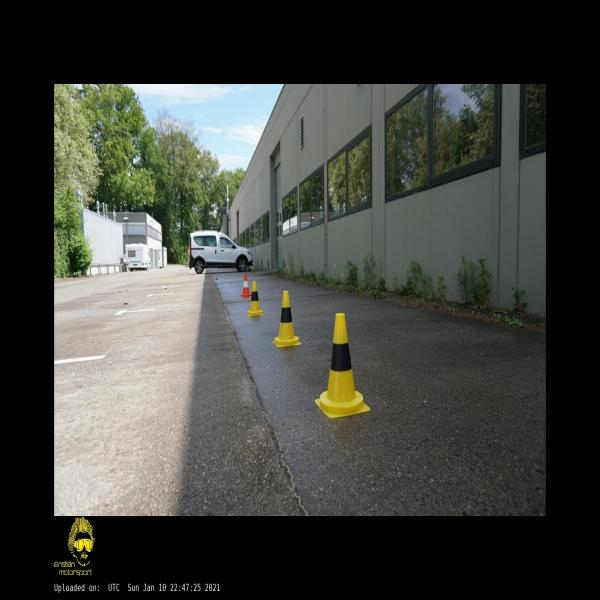orange_cone: (240, 274, 251, 297)
yellow_cone: (315, 313, 370, 418), (273, 291, 301, 347), (246, 280, 264, 315)
